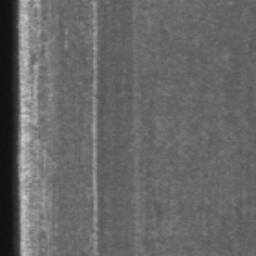Bright scratch: (18, 0, 32, 256), (93, 0, 98, 256)
